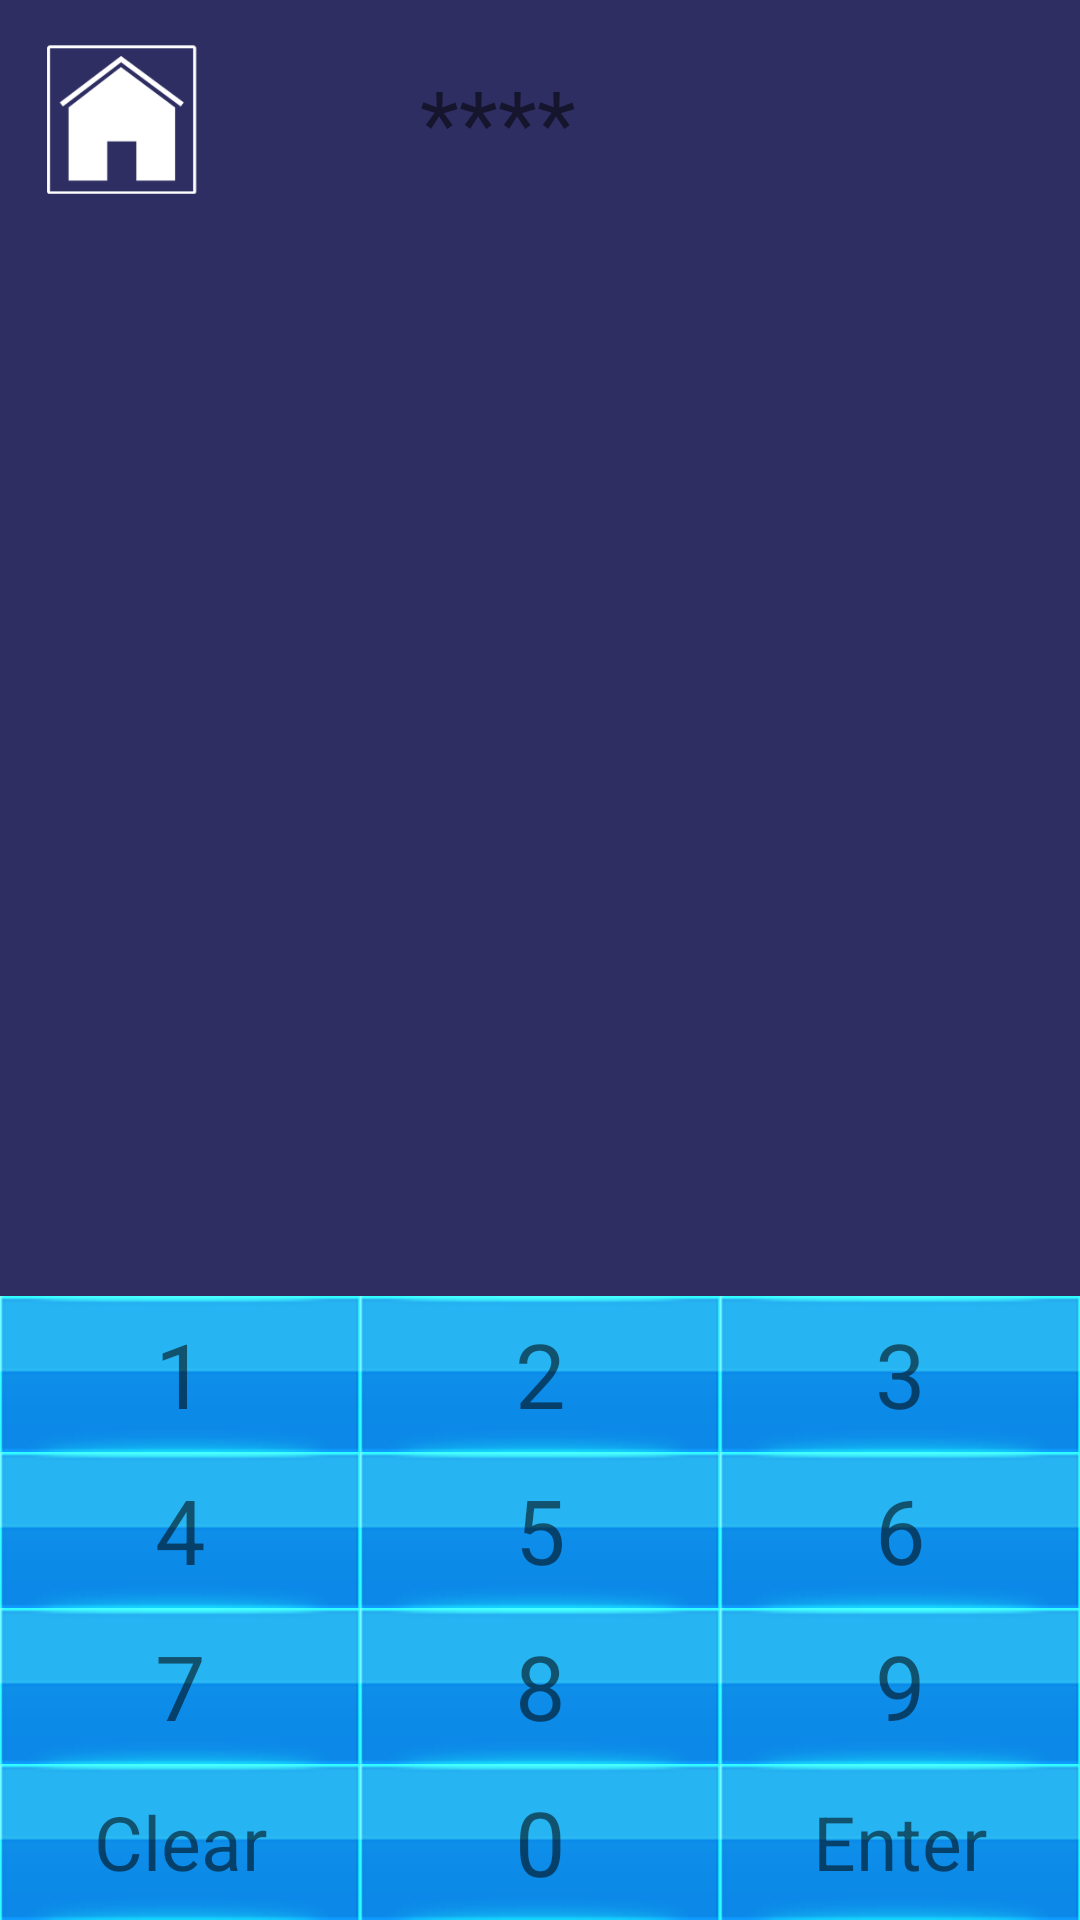

Where to tap for icons on this 1080x1920 app screen, as (x,y):
home: (122,119)
